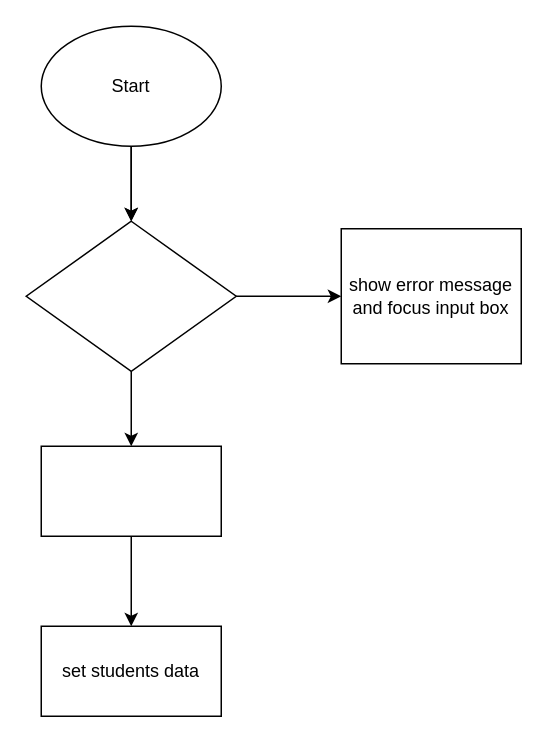
The diagram is 548 pixels wide and 743 high, and some of its shapes have lost their labels. The shapes that lost their labels are listed below. From the top down, each one's centre as x and y in pixels, then its label:
pixel 130 295: Check Name and Age
pixel 130 490: create object for student
